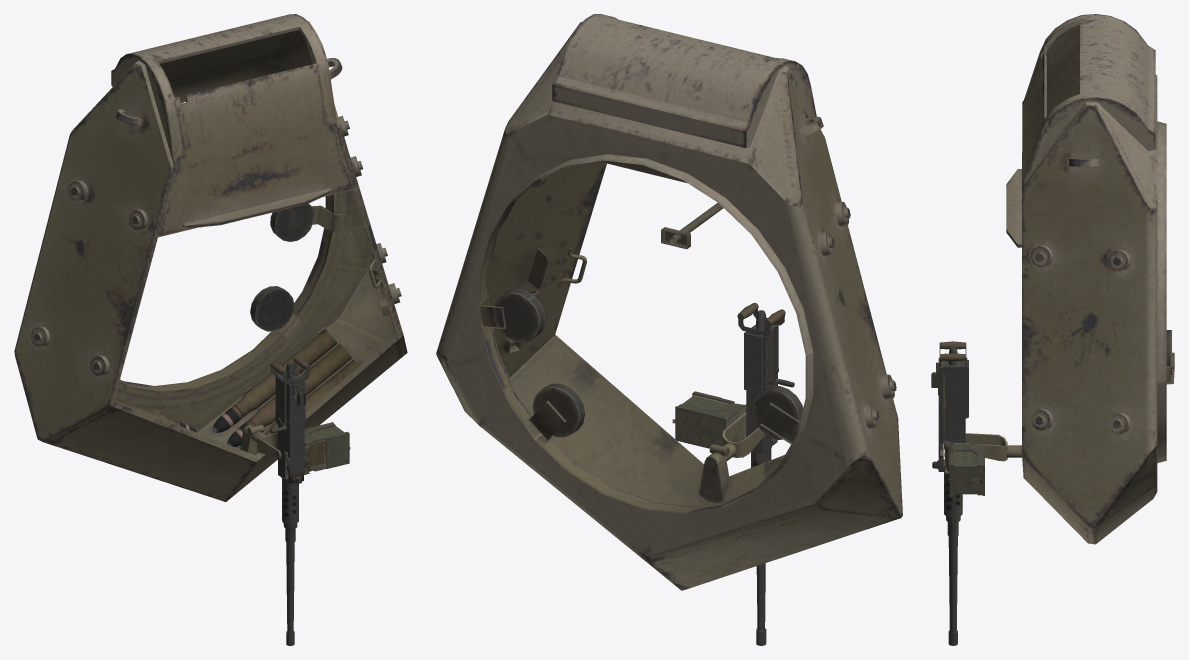
Rendered from Turret_01.glb.
The picture shows the model from 3 angles, left to right: view 1: azimuth 30°, elevation 25°; view 2: azimuth 150°, elevation 25°; view 3: azimuth 270°, elevation 25°; orthographic projection. The views are drawn at different scales.
Parts seen in each view (by area): view 1: set_0_group_0; view 2: set_0_group_0; view 3: set_0_group_0.
Part boxes in pixels (box(x1,y1,x2,y2)): set_0_group_0: box(14, 14, 407, 645); set_0_group_0: box(436, 14, 902, 645); set_0_group_0: box(931, 14, 1174, 645).
Size of the model in its own units: 2.26 by 3.27 by 1.23.
Materials: 1 (1 with a texture image).
